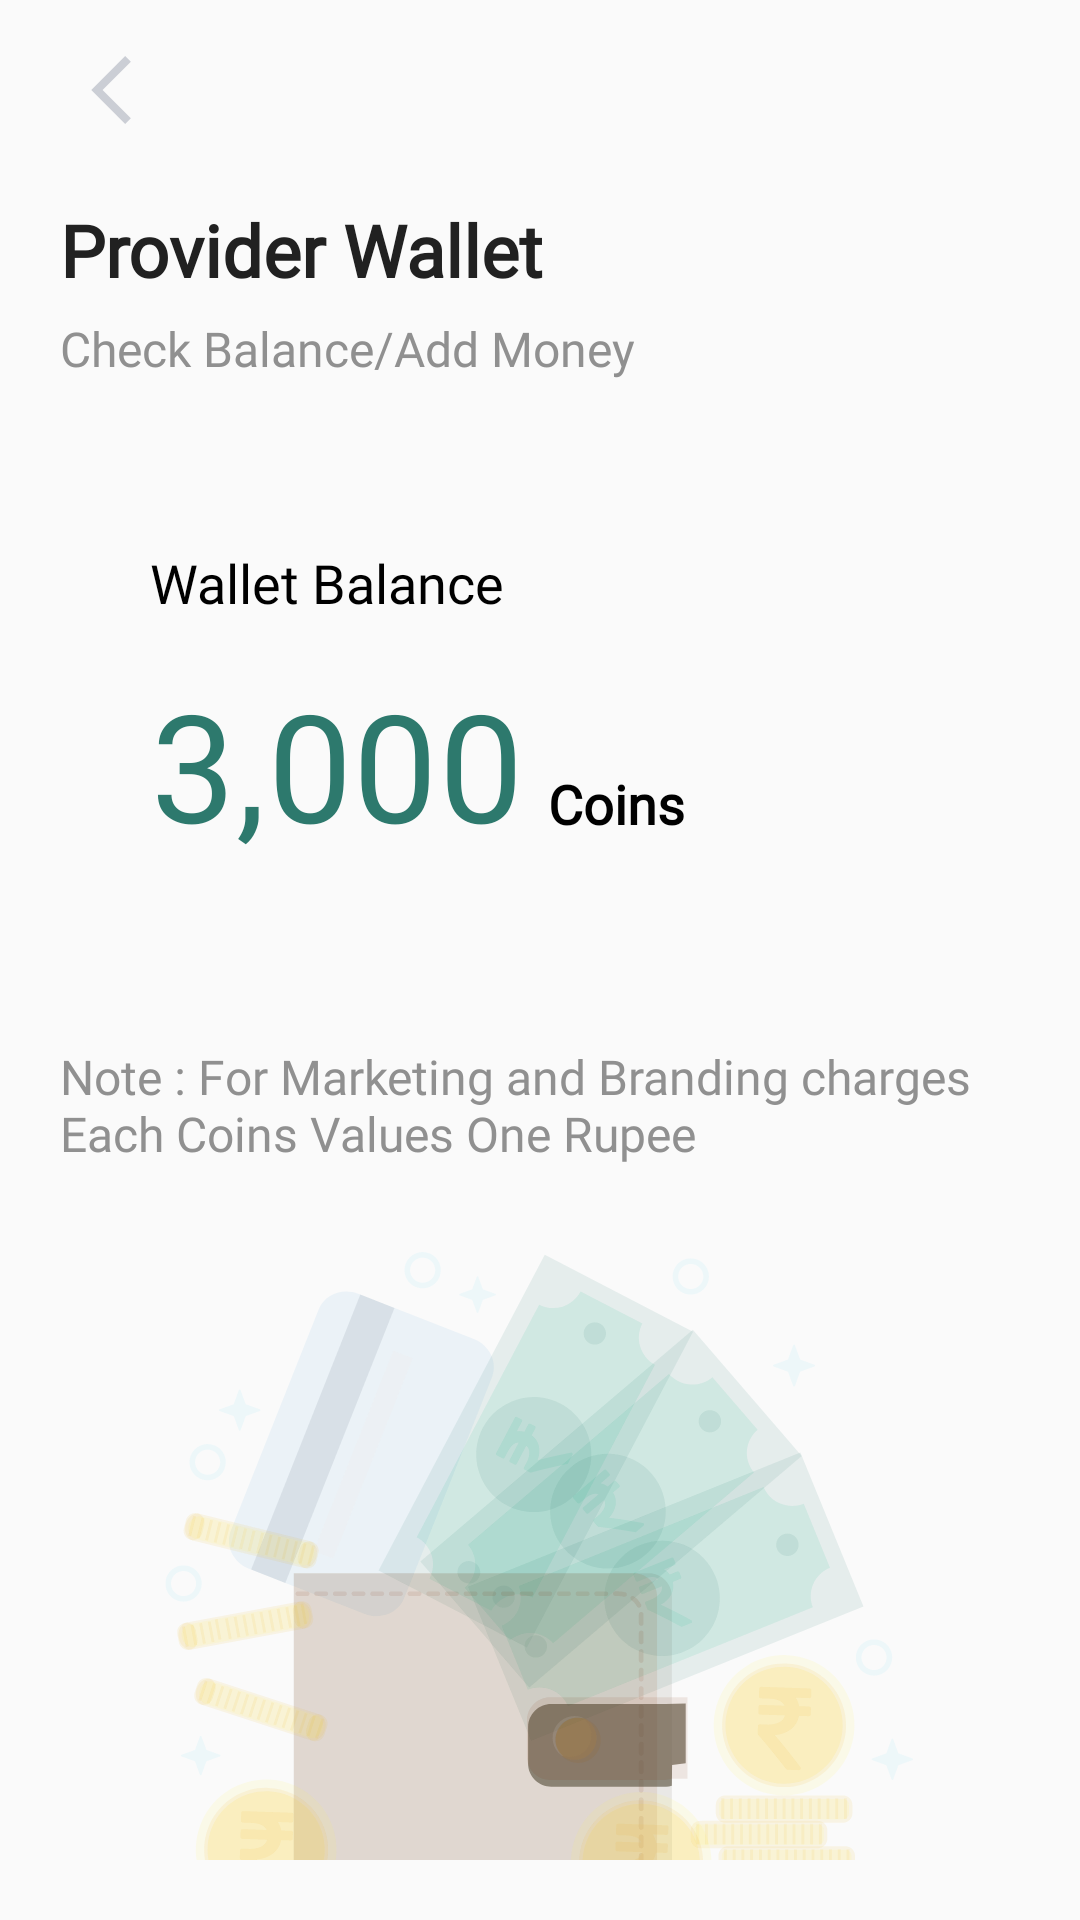

Where icons sit on this 1080w x 1920h app screen, as bbox(x1, y1, x2, y2):
back: bbox(92, 56, 131, 124)
